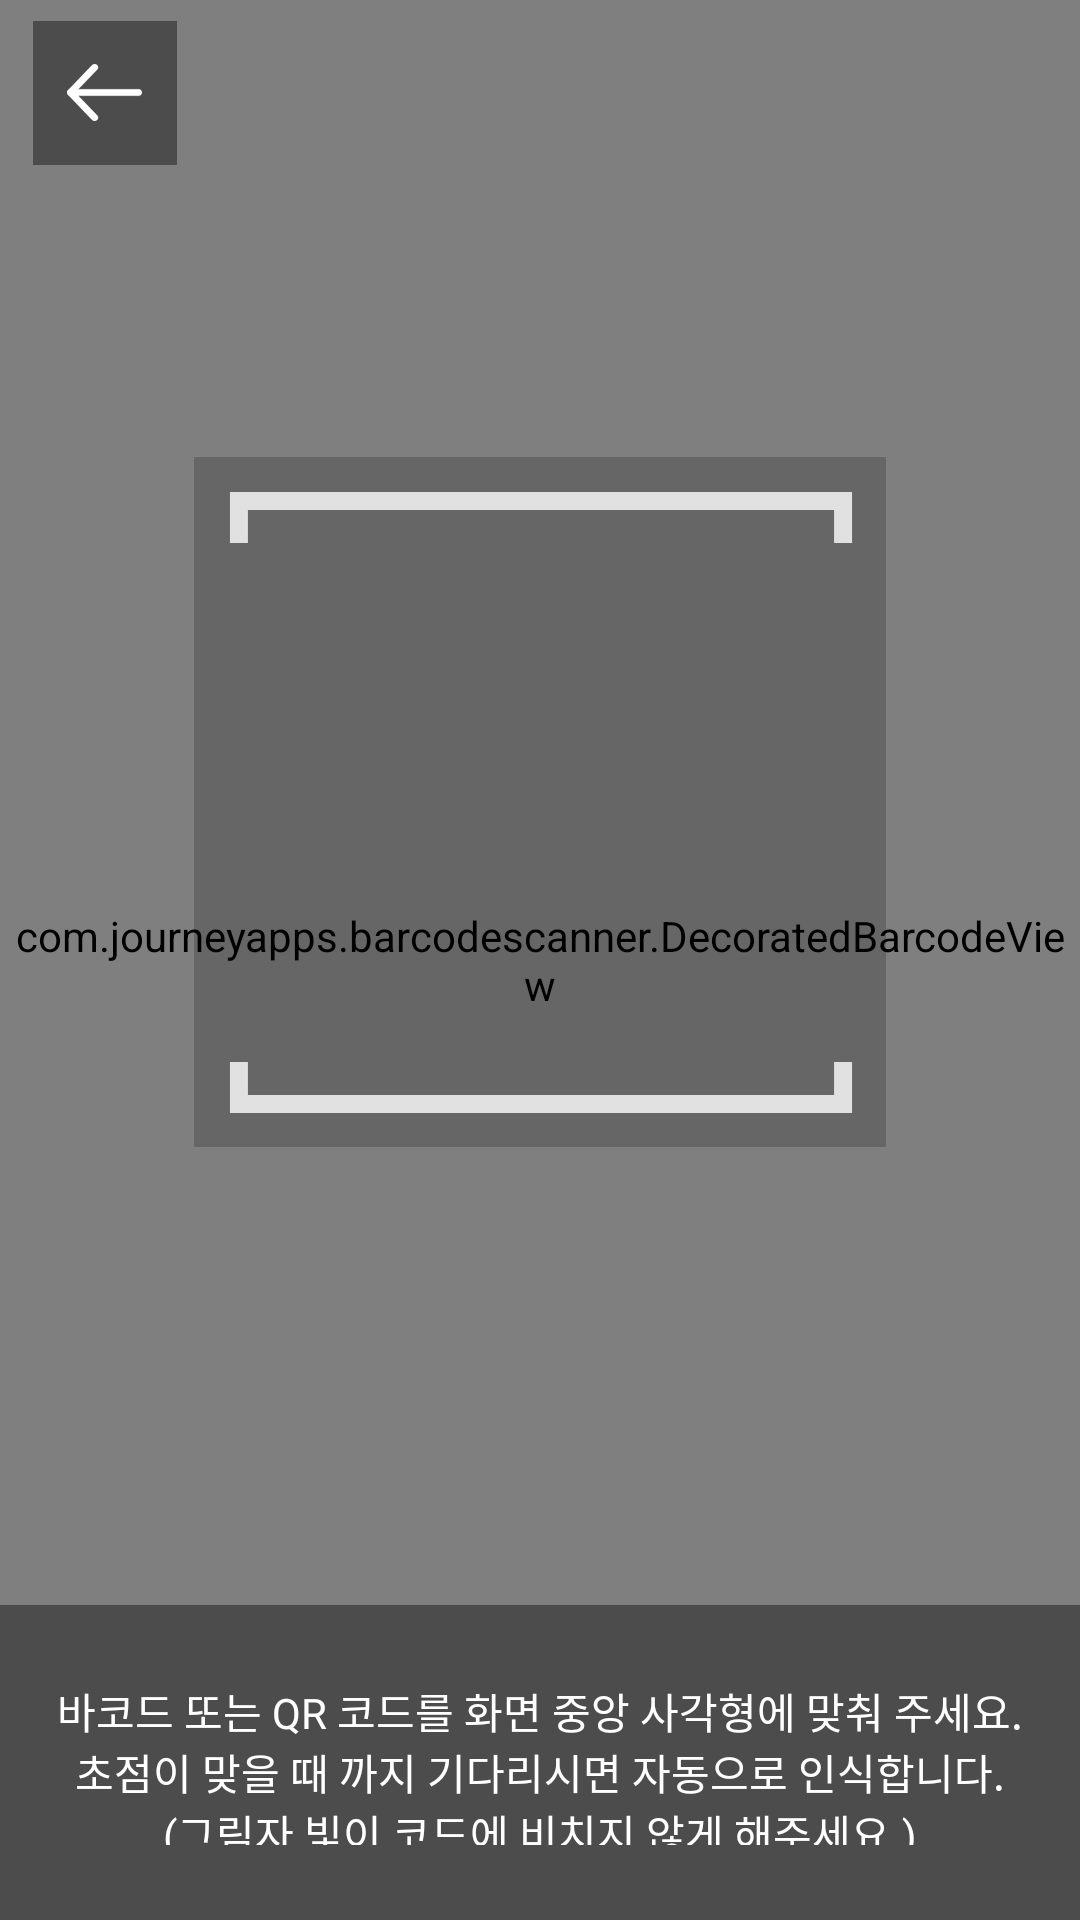

Named icons in this screenshot (1080px x 1920px) and their centers, [x,y]:
back bt: [104,92]
